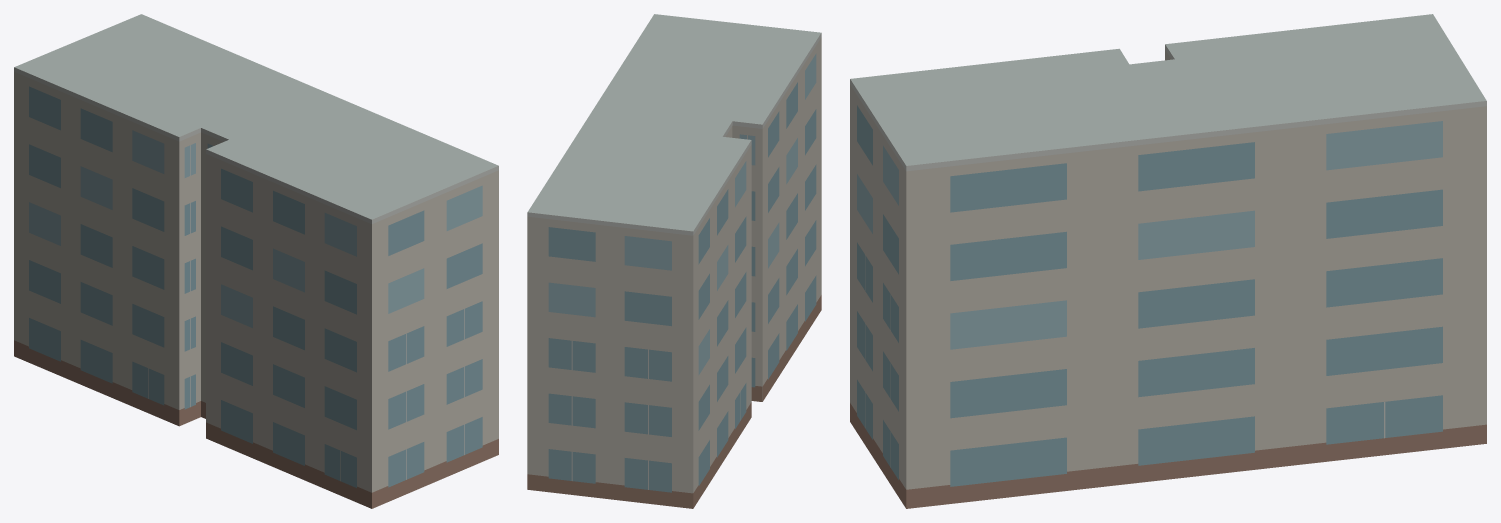
File: survey-upis-32663553.glb
The picture shows the model from 3 angles, left to right: view 1: azimuth 30°, elevation 25°; view 2: azimuth 150°, elevation 25°; view 3: azimuth 270°, elevation 25°; orthographic projection. The views are drawn at different scales.
Parts seen in each view (by area): view 1: survey-upis-32663553.tmp; view 2: survey-upis-32663553.tmp; view 3: survey-upis-32663553.tmp.
Boxes of the visible parts, x1,y1,x2,y2 form: survey-upis-32663553.tmp: [14, 14, 498, 508]; survey-upis-32663553.tmp: [527, 14, 821, 508]; survey-upis-32663553.tmp: [850, 14, 1486, 508].
Bounding box in the file's own units: 14.84 × 15.6 × 26.26.
